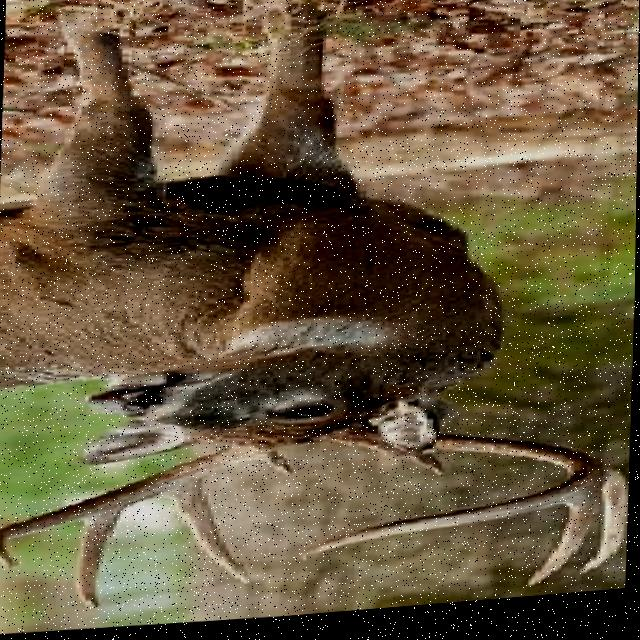L-G1: (396, 461, 450, 484)
L-G2: (572, 474, 630, 587)
L-G3: (526, 496, 604, 599)
R-F: (0, 447, 275, 570)
R-G1: (249, 450, 295, 482)
R-G2: (158, 480, 254, 589)
R-G3: (75, 509, 128, 611)
